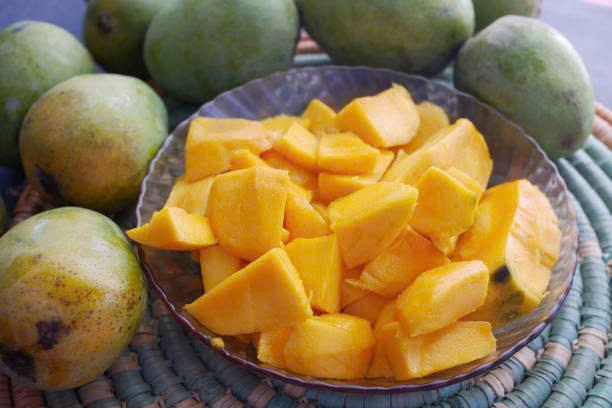mango: (144, 86, 546, 361)
